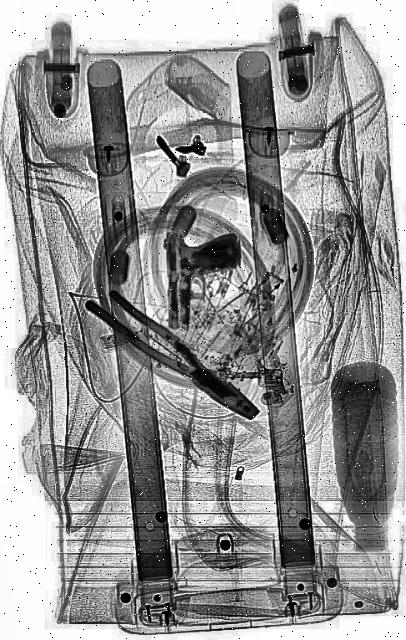Gun: (166, 232, 243, 332)
Pliers: (85, 276, 264, 432)
